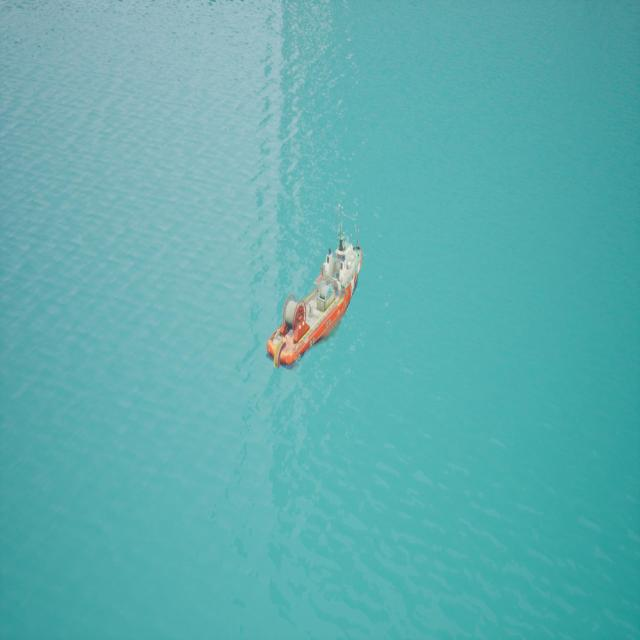tug boat: (260, 223, 381, 389)
